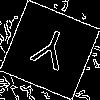Y: (25, 24, 73, 80)
